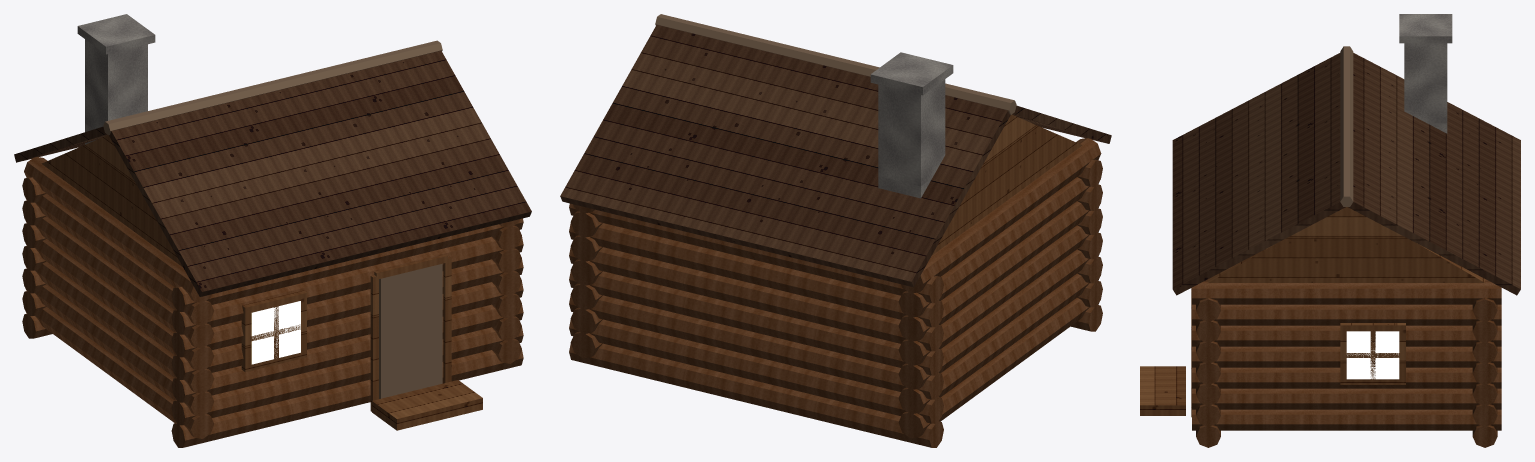
File: cabin.glb
3 views of the same model, side by side, from view 1: azimuth 30°, elevation 25°; view 2: azimuth 150°, elevation 25°; view 3: azimuth 270°, elevation 25° (orthographic). The views are drawn at different scales.
Visible parts, largest first — view 1: cabin; view 2: cabin; view 3: cabin.
Boxes of the visible parts, box(x1,y1,x2,y2) form: cabin: box(14, 14, 531, 447); cabin: box(560, 14, 1111, 447); cabin: box(1140, 14, 1520, 447).
Bounding box in the file's own units: 5.5 × 4.99 × 5.78.
6 materials, 4 textured.
